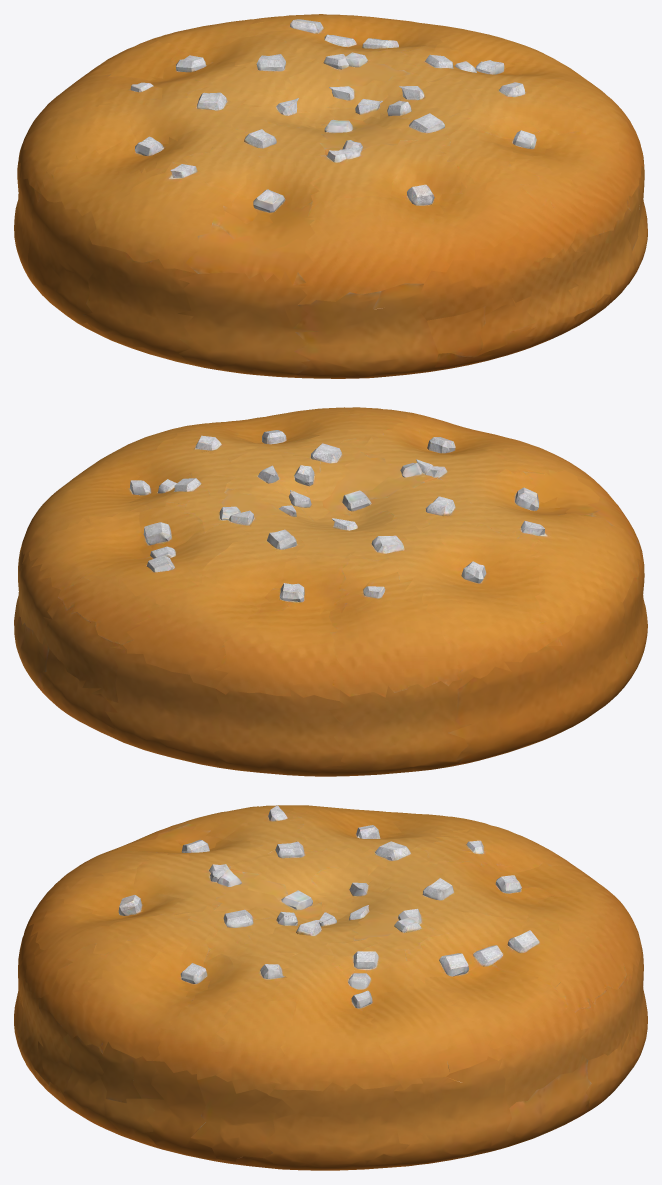
The model's file is koek.glb.
3 renders of one model, top to bottom at view 1: azimuth 30°, elevation 25°; view 2: azimuth 150°, elevation 25°; view 3: azimuth 270°, elevation 25°, orthographic.
Parts seen in each view (by area): view 1: Mesh_0; view 2: Mesh_0; view 3: Mesh_0.
Part boxes in pixels (x1,y1,x2,y2): Mesh_0: (14, 14, 647, 378); Mesh_0: (14, 407, 647, 776); Mesh_0: (14, 805, 647, 1170).
Bounding box in the file's own units: 1.9 × 0.5171 × 1.9.
Materials: 1 (1 with a texture image).
